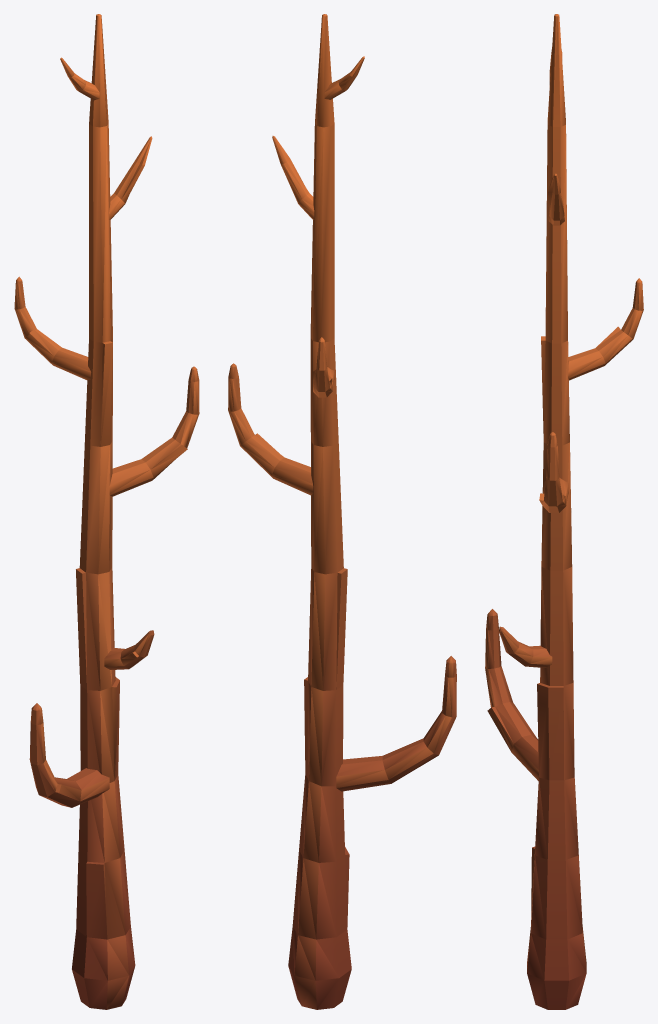
File: kf_tree_bare_2_c.fbx
The picture shows the model from 3 angles, left to right: view 1: azimuth 30°, elevation 25°; view 2: azimuth 150°, elevation 25°; view 3: azimuth 270°, elevation 25°; orthographic projection.
Parts seen in each view (by area): view 1: kf_tree_bare_2_c_LOD0; view 2: kf_tree_bare_2_c_LOD0; view 3: kf_tree_bare_2_c_LOD0.
Part boxes in pixels (<box>): kf_tree_bare_2_c_LOD0: <box>14,14,199,1009</box>; kf_tree_bare_2_c_LOD0: <box>228,14,456,1009</box>; kf_tree_bare_2_c_LOD0: <box>485,14,643,1009</box>.
Size of what is drawn, in the model's own units: 1.81 by 8.76 by 1.27.
Materials: 1 (1 with a texture image).
